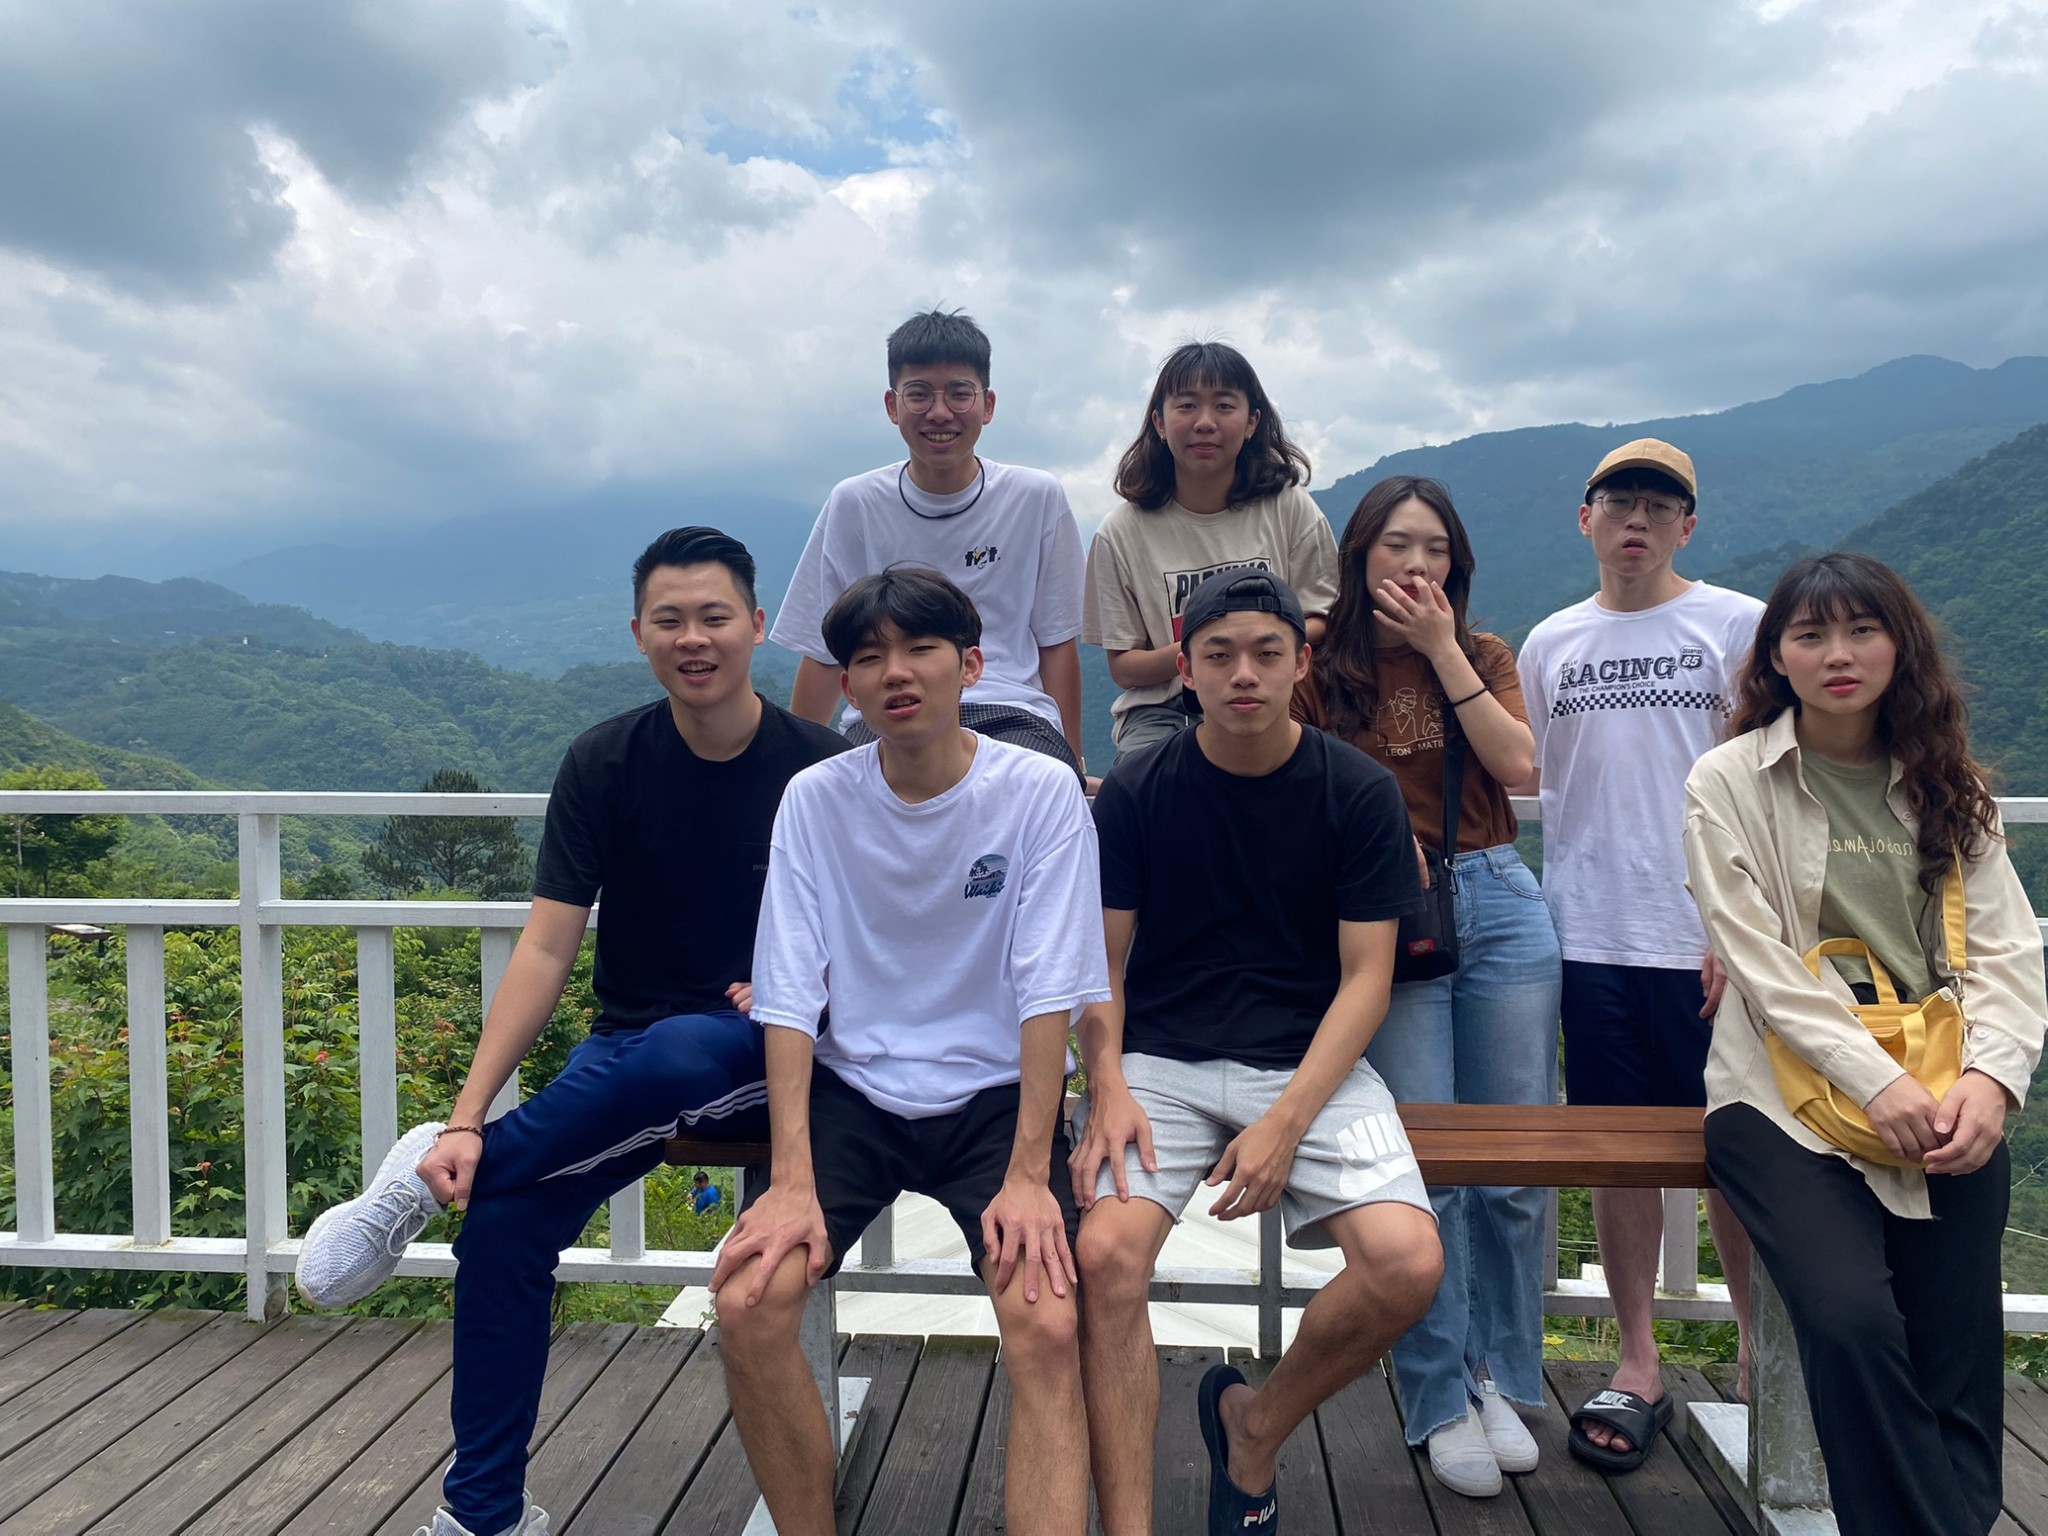people: (813, 584, 1087, 1536), (1757, 552, 2022, 1536), (1110, 584, 1381, 1536), (1537, 443, 1793, 1437), (1352, 487, 1566, 1490), (599, 552, 840, 1149), (1134, 355, 1352, 925), (857, 322, 1078, 819)
